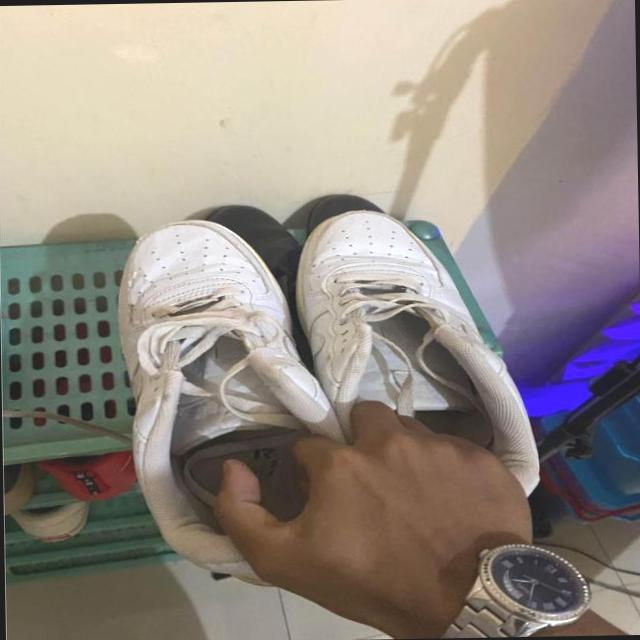nike_fake_airforce: (114, 218, 350, 579), (282, 206, 539, 477)
